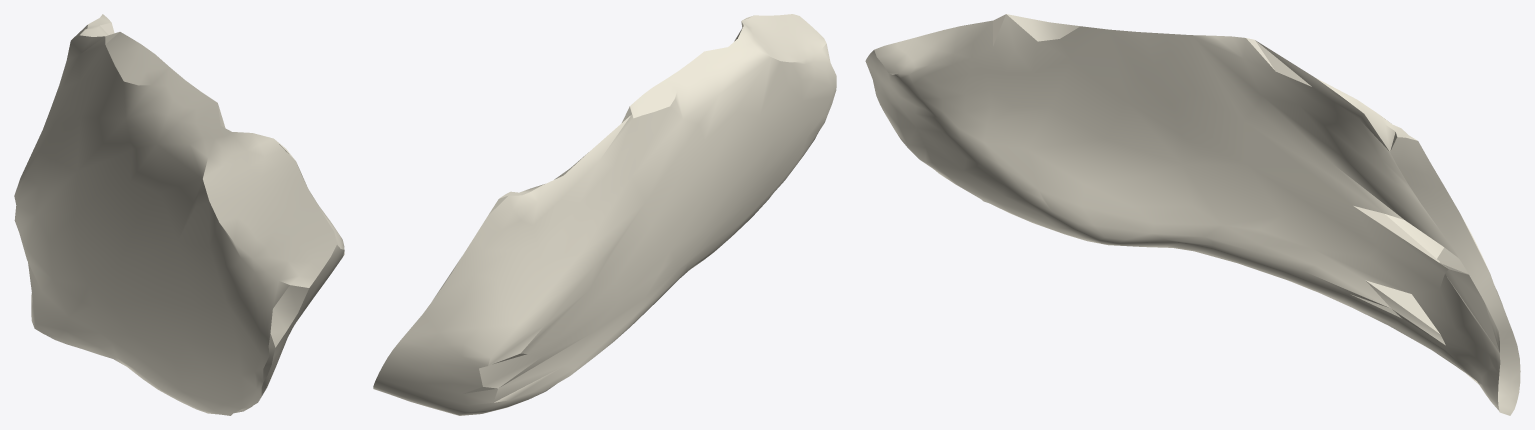
Rendered from fma57461_mm2119.glb.
3 views of the same model, side by side, from view 1: azimuth 30°, elevation 25°; view 2: azimuth 150°, elevation 25°; view 3: azimuth 270°, elevation 25° (orthographic). The views are drawn at different scales.
Parts seen in each view (by area): view 1: FMA57461_MM2119; view 2: FMA57461_MM2119; view 3: FMA57461_MM2119.
Part boxes in pixels (x1,y1,x2,y2): FMA57461_MM2119: (14,14,344,415); FMA57461_MM2119: (373,14,836,415); FMA57461_MM2119: (865,14,1520,415).
Size of the model in its own units: 0.0115 by 0.0144 by 0.0263.
